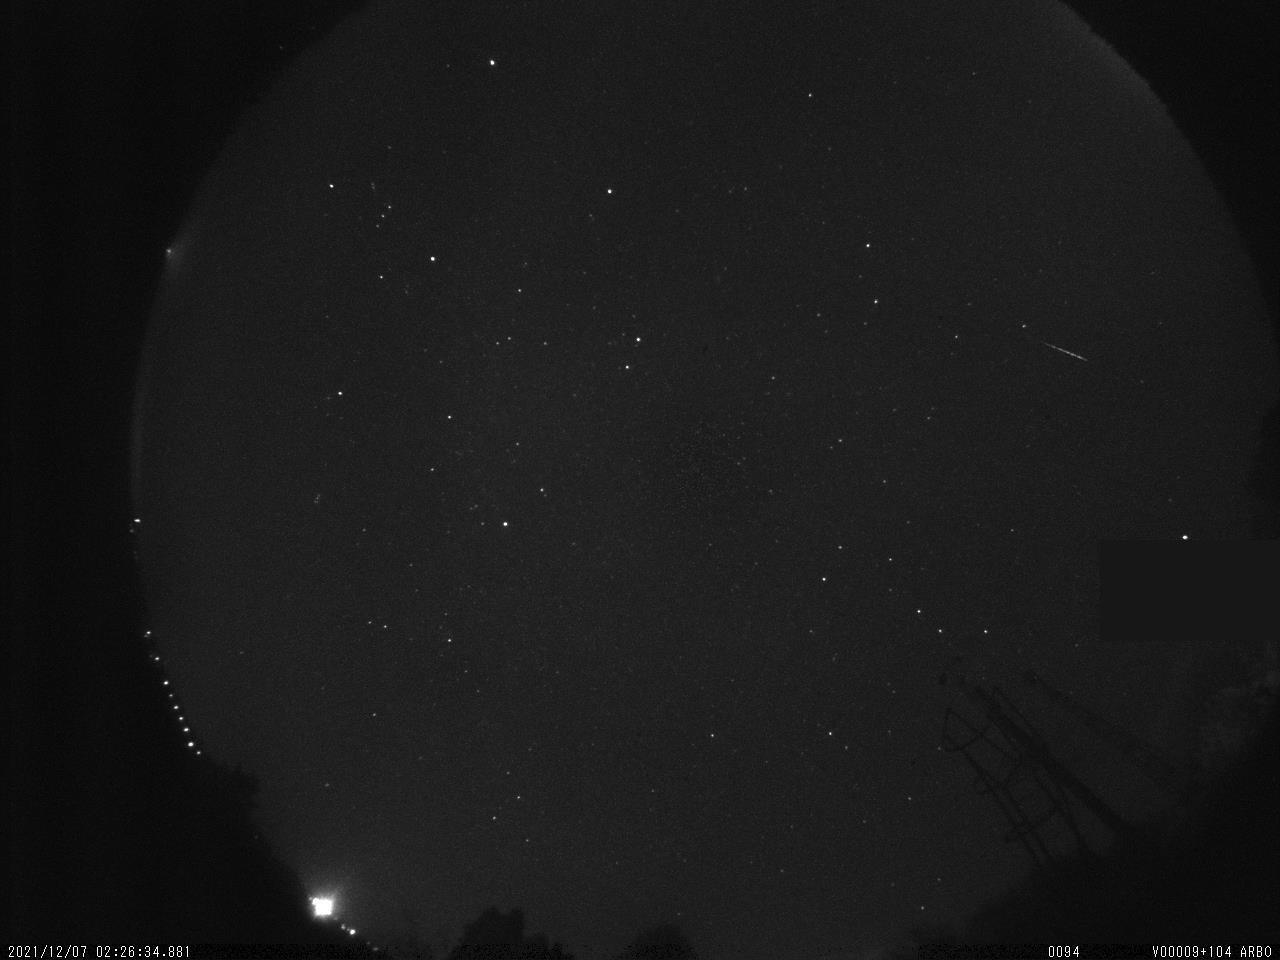meteor: (1031, 323, 1105, 372)
